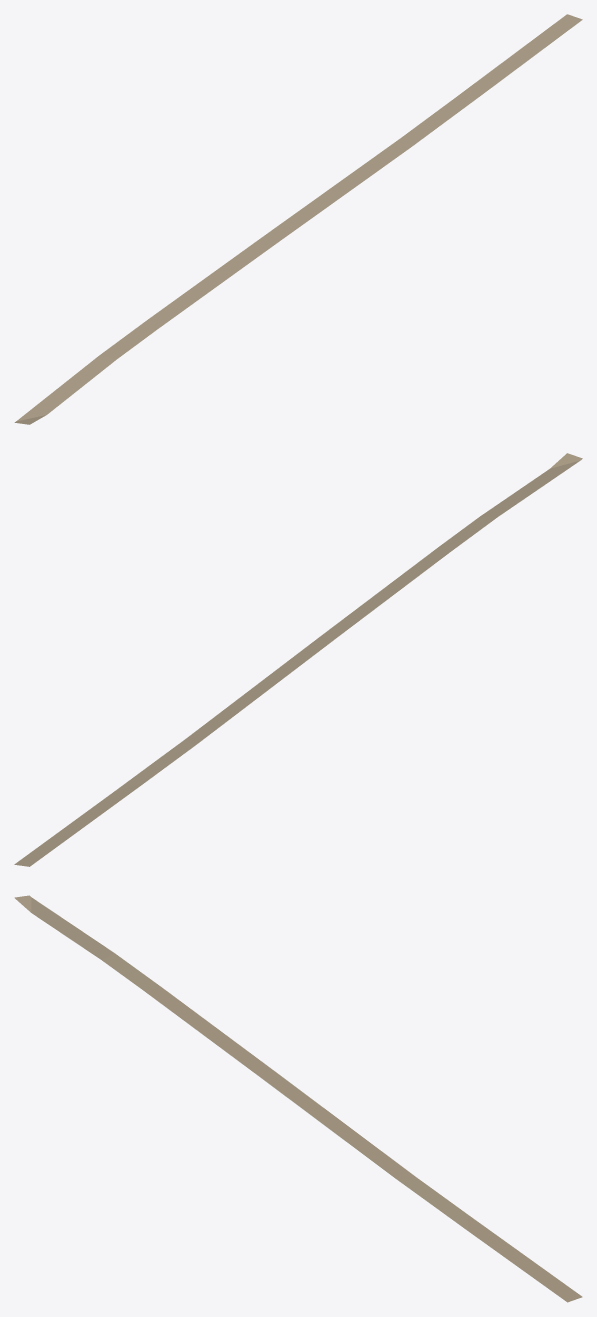
Rendered from farm_0_21_track.glb.
3 renders of one model, top to bottom at view 1: azimuth 30°, elevation 25°; view 2: azimuth 210°, elevation 25°; view 3: azimuth 270°, elevation 25°, orthographic.
Visible parts, largest first — view 1: geometry_0; view 2: geometry_0; view 3: geometry_0.
Boxes of the visible parts, bbox=[...] form: geometry_0: bbox=[14, 14, 582, 424]; geometry_0: bbox=[14, 453, 582, 866]; geometry_0: bbox=[14, 895, 582, 1302].
Size of the model in its own units: 176 by 1.35 by 104.
